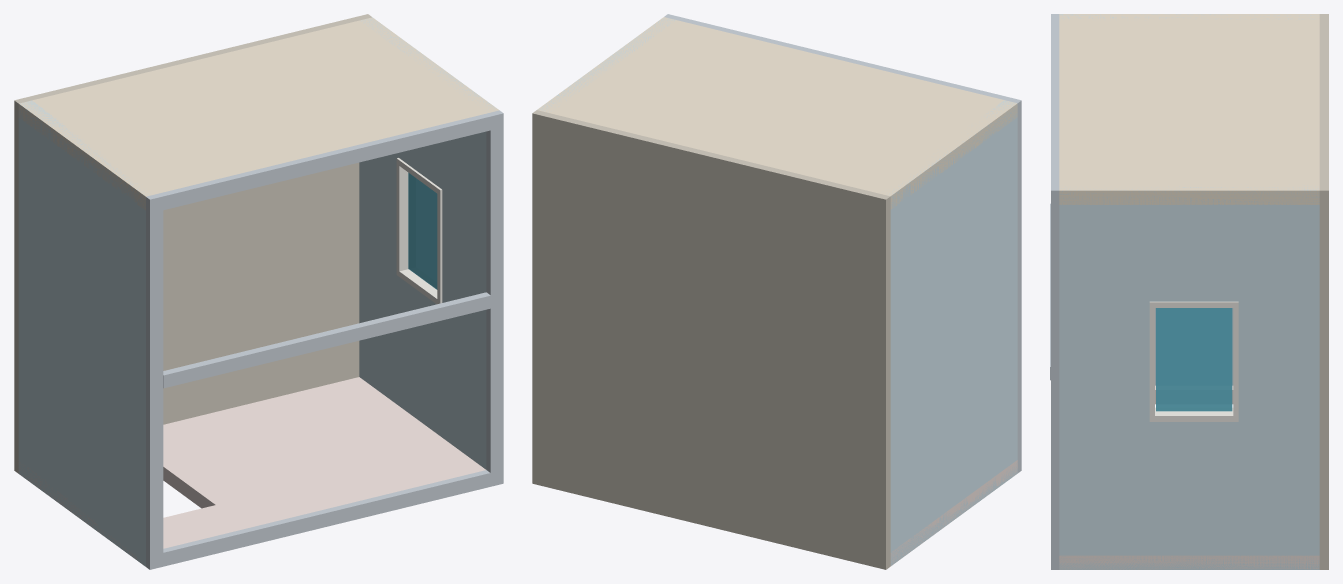
The model's file is MotionReady_Room_Shell.obj.
3 views of the same model, side by side, from view 1: azimuth 30°, elevation 25°; view 2: azimuth 150°, elevation 25°; view 3: azimuth 270°, elevation 25° (orthographic). The views are drawn at different scales.
Parts seen in each view (by area): view 1: Left_side_wall, Back_wall, Floor_slab, Front_wall_right, Right_wall_front_of_window, Top_frame_back, Top_frame_front, Top_frame_left, Top_frame_right, Ceiling_support_beam, Right_wall_back_of_window, Right_wall_above_window (+5 smaller); view 2: Floor_slab, Left_side_wall, Back_wall, Top_frame_back, Top_frame_left, Front_wall_left, Right_wall_back_of_window; view 3: Back_wall, Right_wall_front_of_window, Right_wall_back_of_window, Right_wall_above_window, Right_wall_below_window, Window_glass, Floor_slab, Front_wall_right, Top_frame_right, Top_frame_back, Window_jamb_front, Window_sill (+3 smaller).
Boxes of the visible parts, x1,y1,x2,y2 form: Left_side_wall: (18,100,148,566); Back_wall: (18,17,498,210); Floor_slab: (14,14,371,473); Front_wall_right: (163,377,485,528); Right_wall_front_of_window: (359,243,486,469); Top_frame_back: (146,110,503,213); Top_frame_front: (146,470,503,569); Top_frame_left: (146,210,163,555); Top_frame_right: (486,127,503,472); Ceiling_support_beam: (163,292,490,388); Right_wall_back_of_window: (361,17,496,224); Right_wall_above_window: (442,192,486,335); Floor_slab: (532,110,890,569); Left_side_wall: (889,100,1017,565); Back_wall: (537,17,1017,209); Top_frame_back: (664,14,1021,116); Top_frame_left: (1017,114,1021,459); Front_wall_left: (890,460,1017,564); Right_wall_back_of_window: (538,18,676,111); Back_wall: (1059,14,1319,204); Right_wall_front_of_window: (1059,418,1319,569); Right_wall_back_of_window: (1059,185,1319,304); Right_wall_above_window: (1059,304,1149,418); Right_wall_below_window: (1238,304,1319,418); Window_glass: (1156,308,1232,411); Floor_slab: (1319,14,1328,569); Front_wall_right: (1059,555,1319,569); Top_frame_right: (1051,205,1059,555); Top_frame_back: (1051,14,1059,204); Window_jamb_front: (1155,407,1233,421); Window_sill: (1233,301,1238,421).
Size of the model in its own units: 4517 by 4500 by 3000.
